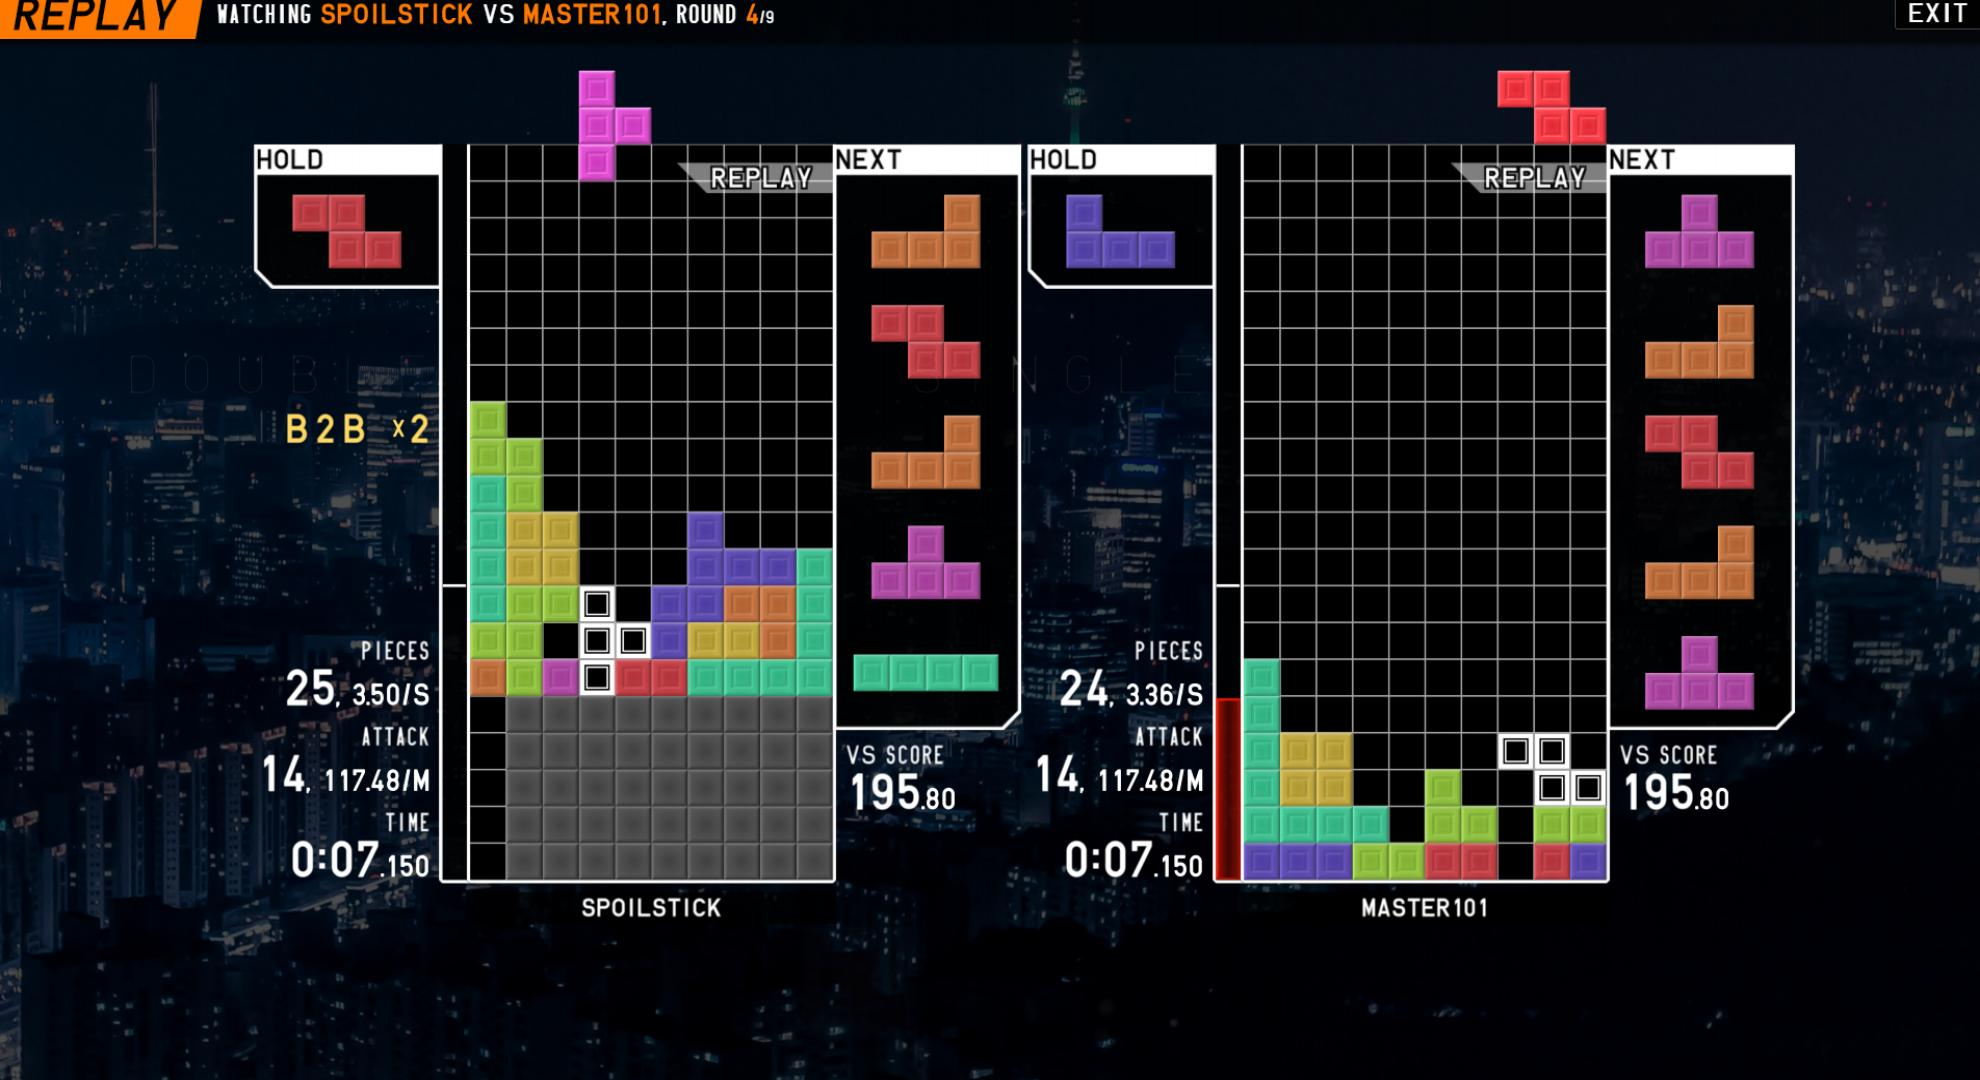tspin: (537, 581, 662, 700)
